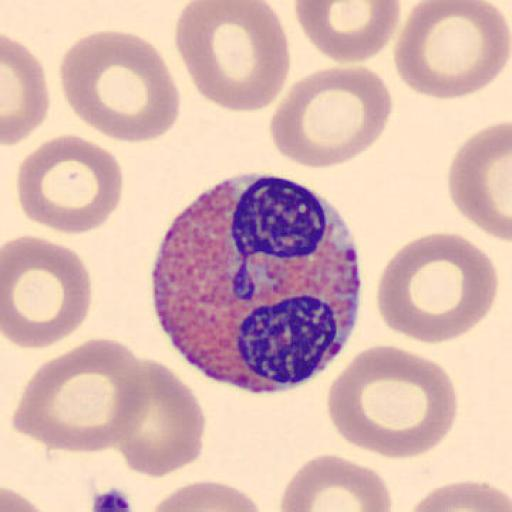RBC: (12, 336, 153, 454), (326, 344, 458, 460), (58, 27, 182, 144), (376, 230, 500, 345), (174, 0, 292, 114), (270, 66, 393, 168), (394, 0, 511, 102), (114, 355, 206, 479), (15, 132, 124, 236), (2, 234, 93, 350), (446, 119, 512, 241), (293, 1, 402, 64), (280, 453, 394, 512), (2, 33, 52, 146), (148, 478, 264, 512), (405, 478, 512, 512), (0, 468, 61, 512), (1, 482, 60, 512)
WBC: (147, 179, 365, 395)
